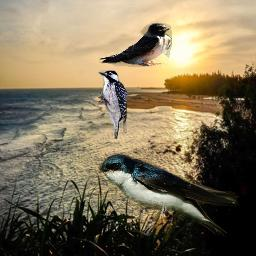Swallow: (98, 153, 244, 239), (98, 23, 172, 67)
Woodpecker: (98, 70, 127, 139)
